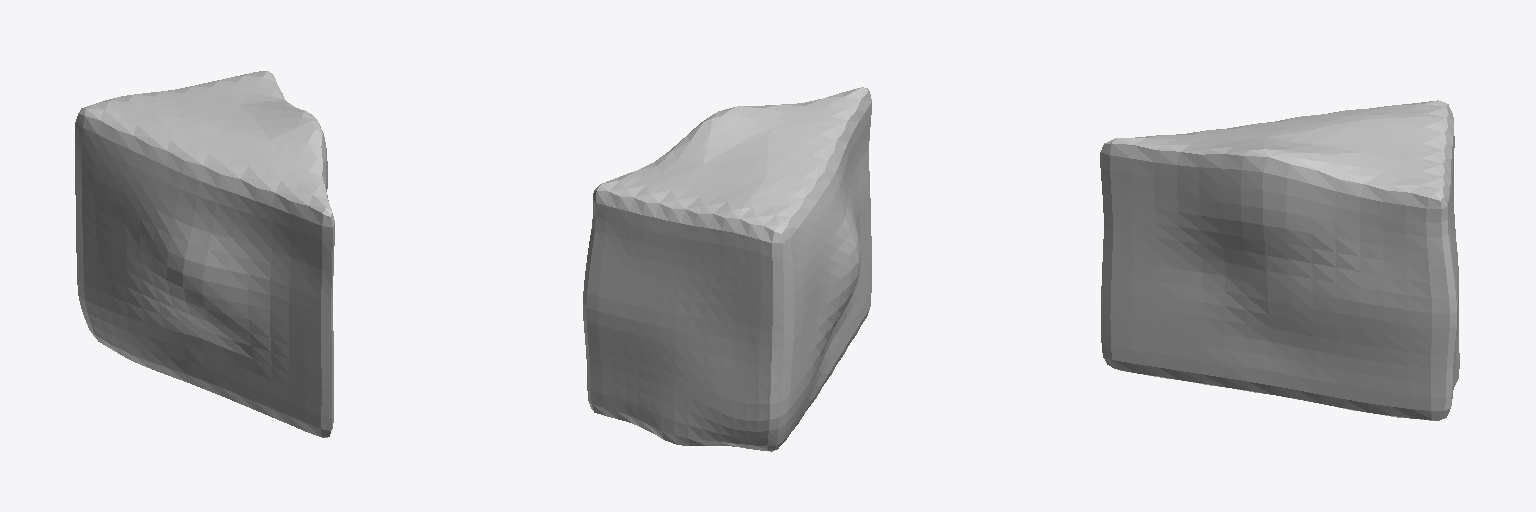
File: сыр.obj
3 views of the same model, side by side, from view 1: azimuth 30°, elevation 25°; view 2: azimuth 150°, elevation 25°; view 3: azimuth 270°, elevation 25° (orthographic).
Visible parts, largest first — view 1: сыр; view 2: сыр; view 3: сыр.
Part boxes in pixels (x1,y1,x2,y2): сыр: (75, 71, 334, 437); сыр: (583, 87, 871, 451); сыр: (1100, 100, 1459, 420).
Size of the model in its own units: 1.82 by 2.24 by 2.83.